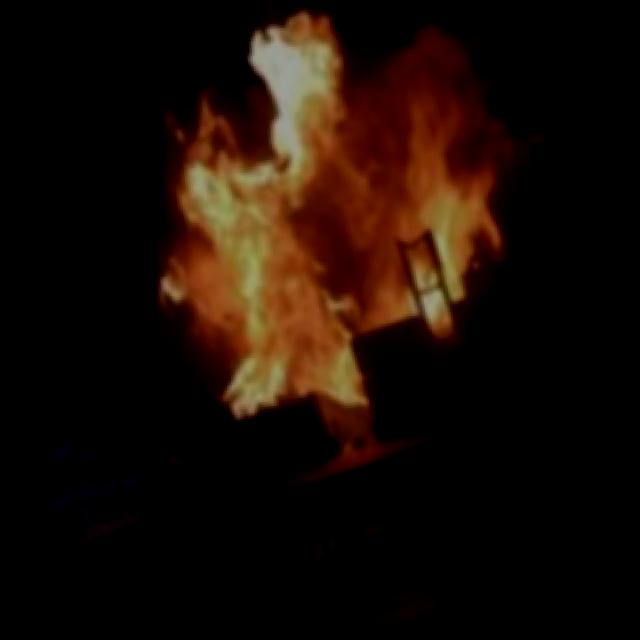fire: (61, 0, 608, 483)
